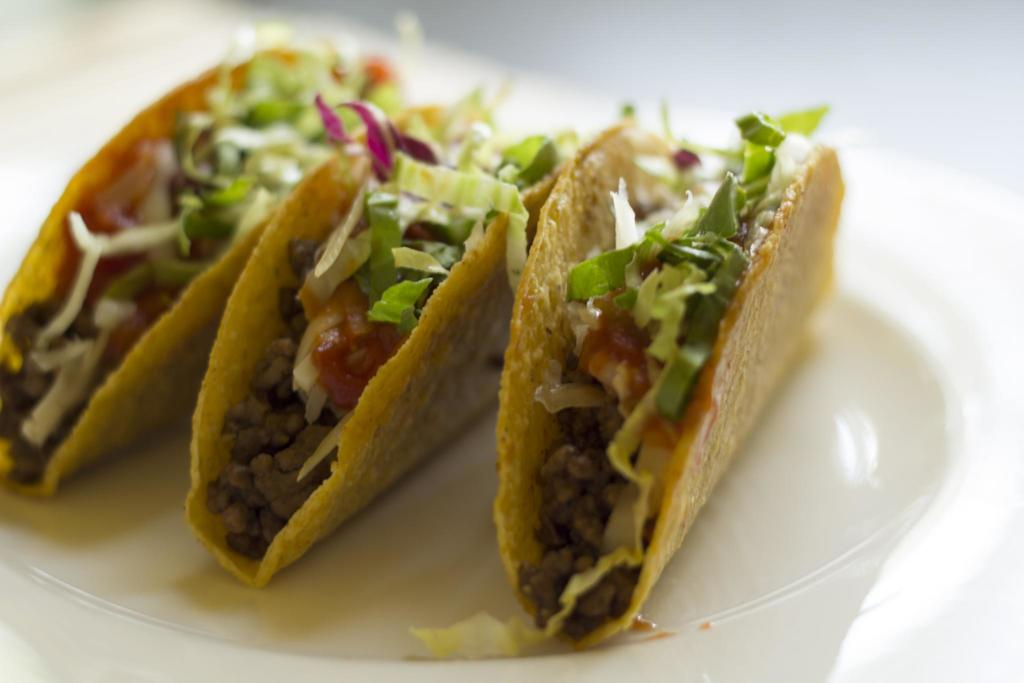taco: (457, 73, 855, 683), (0, 29, 452, 499), (180, 90, 600, 580)
